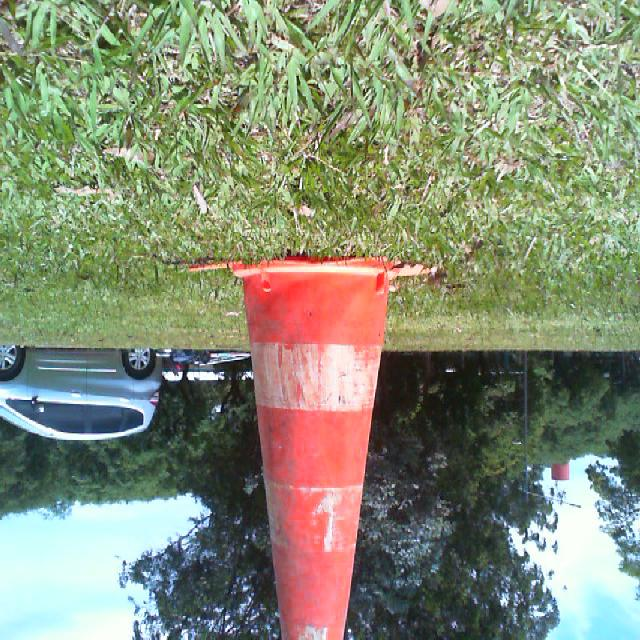cone: (185, 249, 432, 640)
